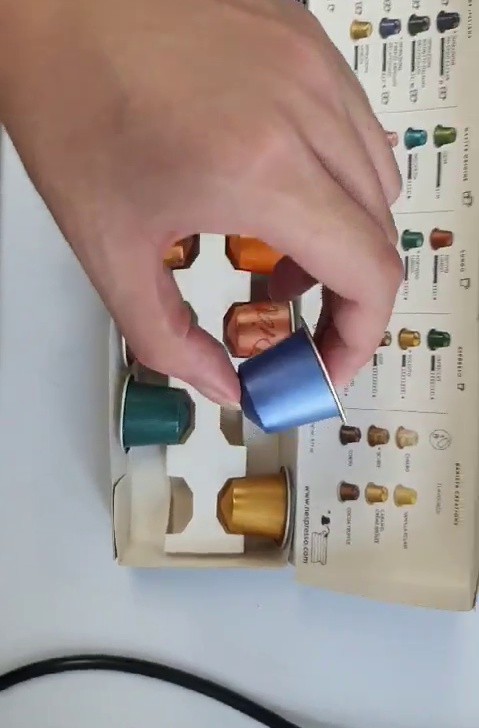capsule_7: (232, 319, 348, 433)
